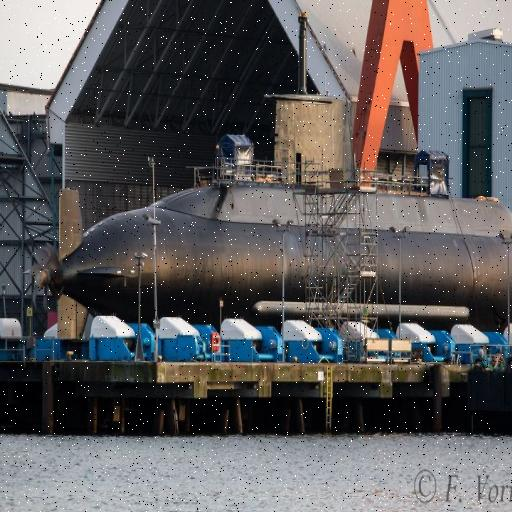submarine: (27, 94, 512, 328)
